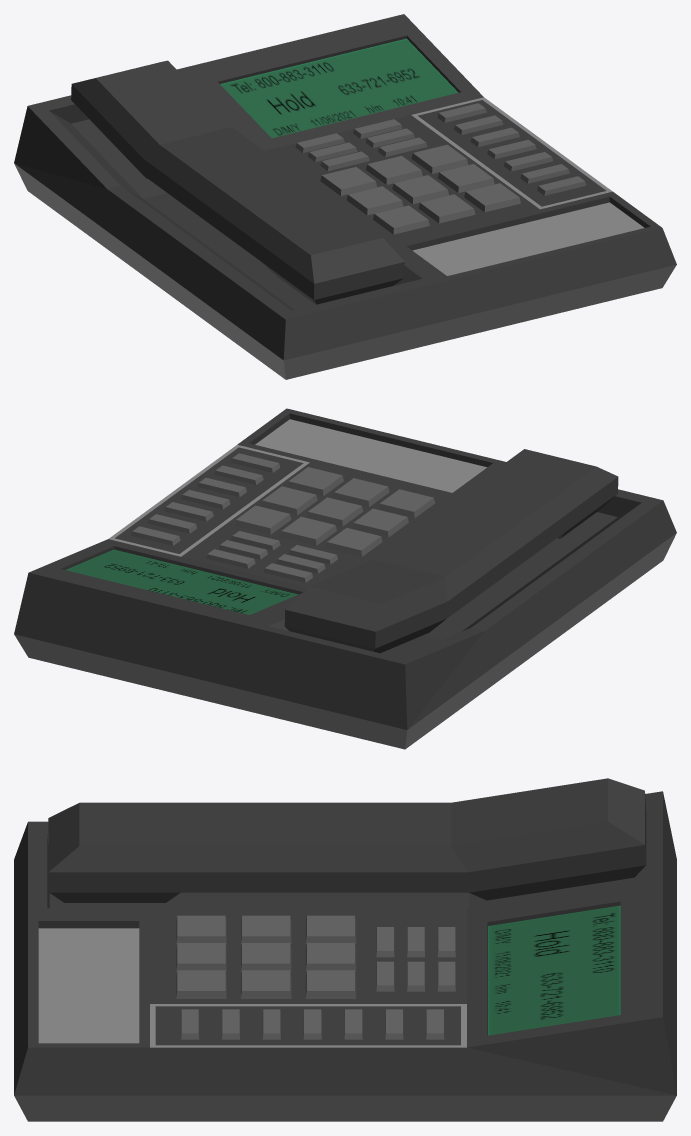
Rendered from TelephoneV1Black_T.fbx.
The picture shows the model from 3 angles, top to bottom: view 1: azimuth 30°, elevation 25°; view 2: azimuth 150°, elevation 25°; view 3: azimuth 270°, elevation 25°; orthographic projection. The views are drawn at different scales.
Parts seen in each view (by area): view 1: TelephoneV1Black_T; view 2: TelephoneV1Black_T; view 3: TelephoneV1Black_T.
Part boxes in pixels (left/top/right/bottom): TelephoneV1Black_T: left=14, top=14, right=676, bottom=379; TelephoneV1Black_T: left=14, top=408, right=676, bottom=749; TelephoneV1Black_T: left=14, top=778, right=676, bottom=1121.
Bounding box in the file's own units: 13.66 × 3.91 × 16.23.
